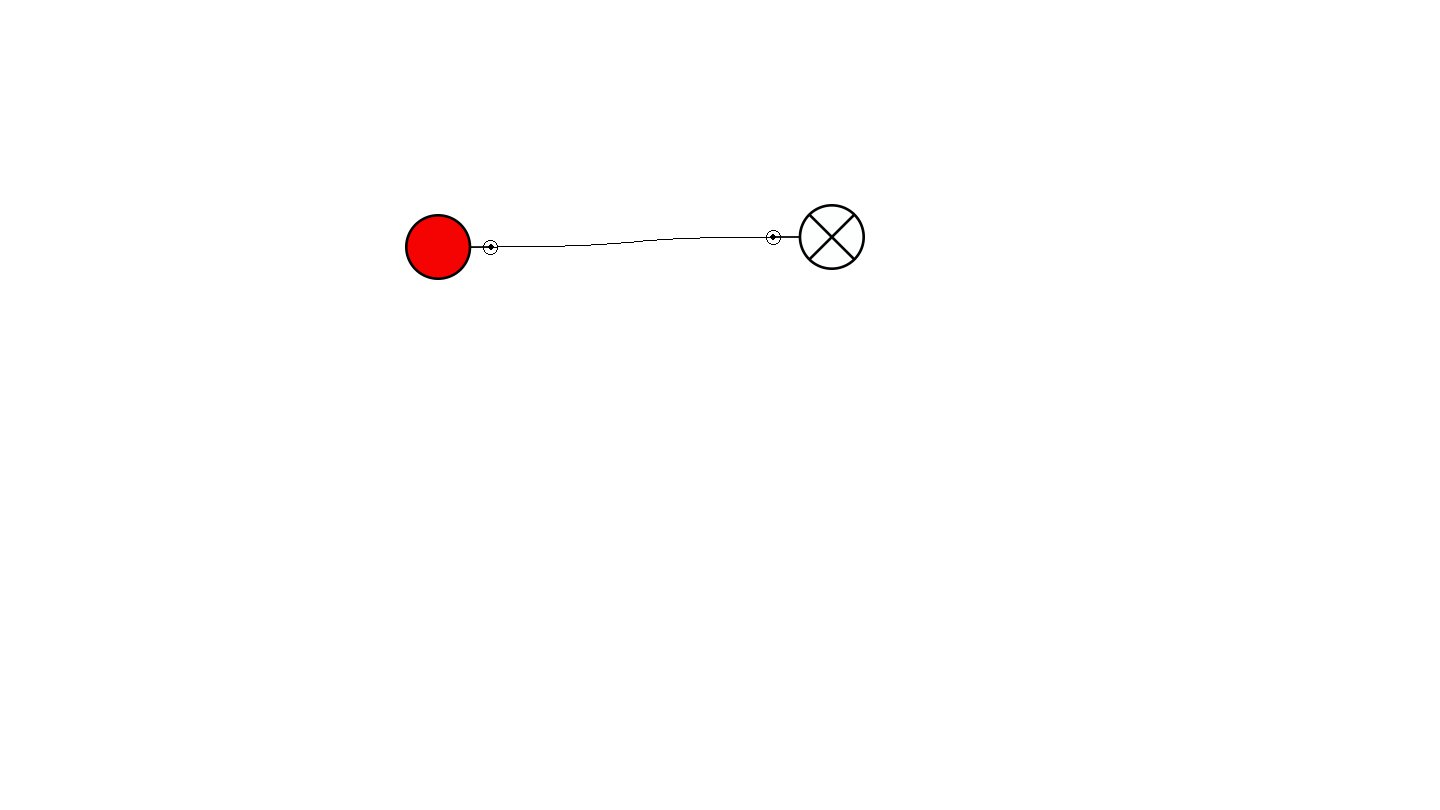bulb: (766, 204, 865, 270)
switch_False: (405, 214, 498, 280)
